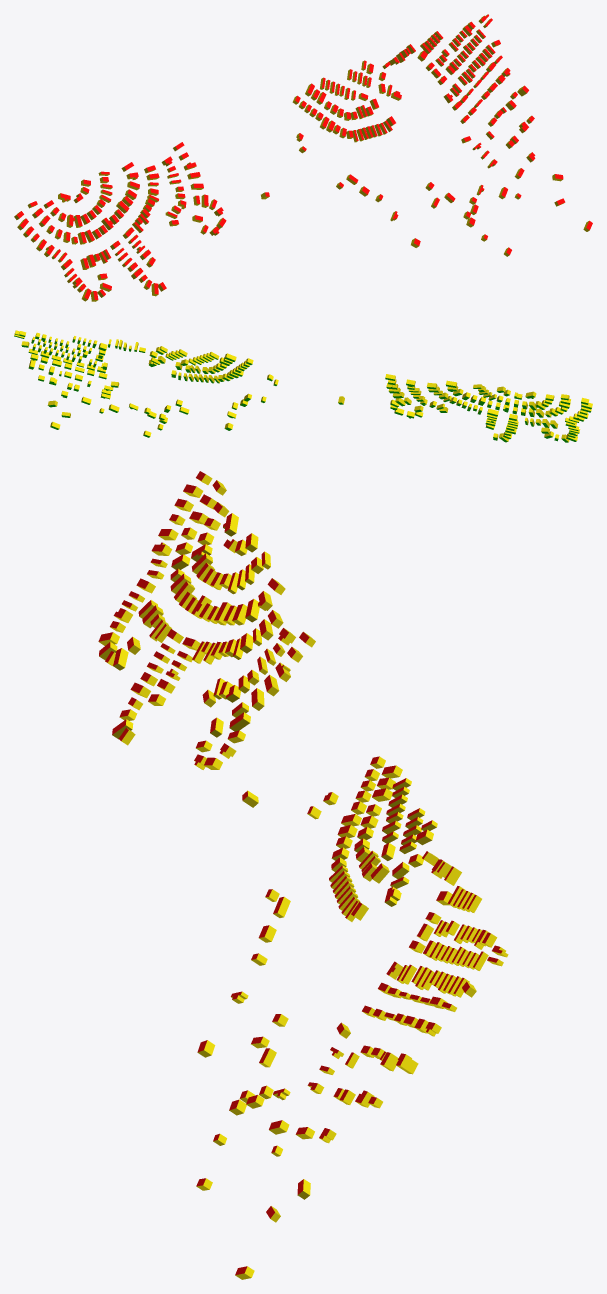
3 views of the same model, one above another, from view 1: azimuth 30°, elevation 25°; view 2: azimuth 150°, elevation 25°; view 3: azimuth 270°, elevation 25° (orthographic). The views are drawn at different scales.
Visible parts, largest first — view 1: mesh; view 2: mesh; view 3: mesh.
Part boxes in pixels (x1,y1,x2,y2): mesh: (14, 14, 592, 301); mesh: (14, 330, 592, 442); mesh: (98, 471, 508, 1279).
Bounding box in the file's own units: 1406 × 397 × 473.
